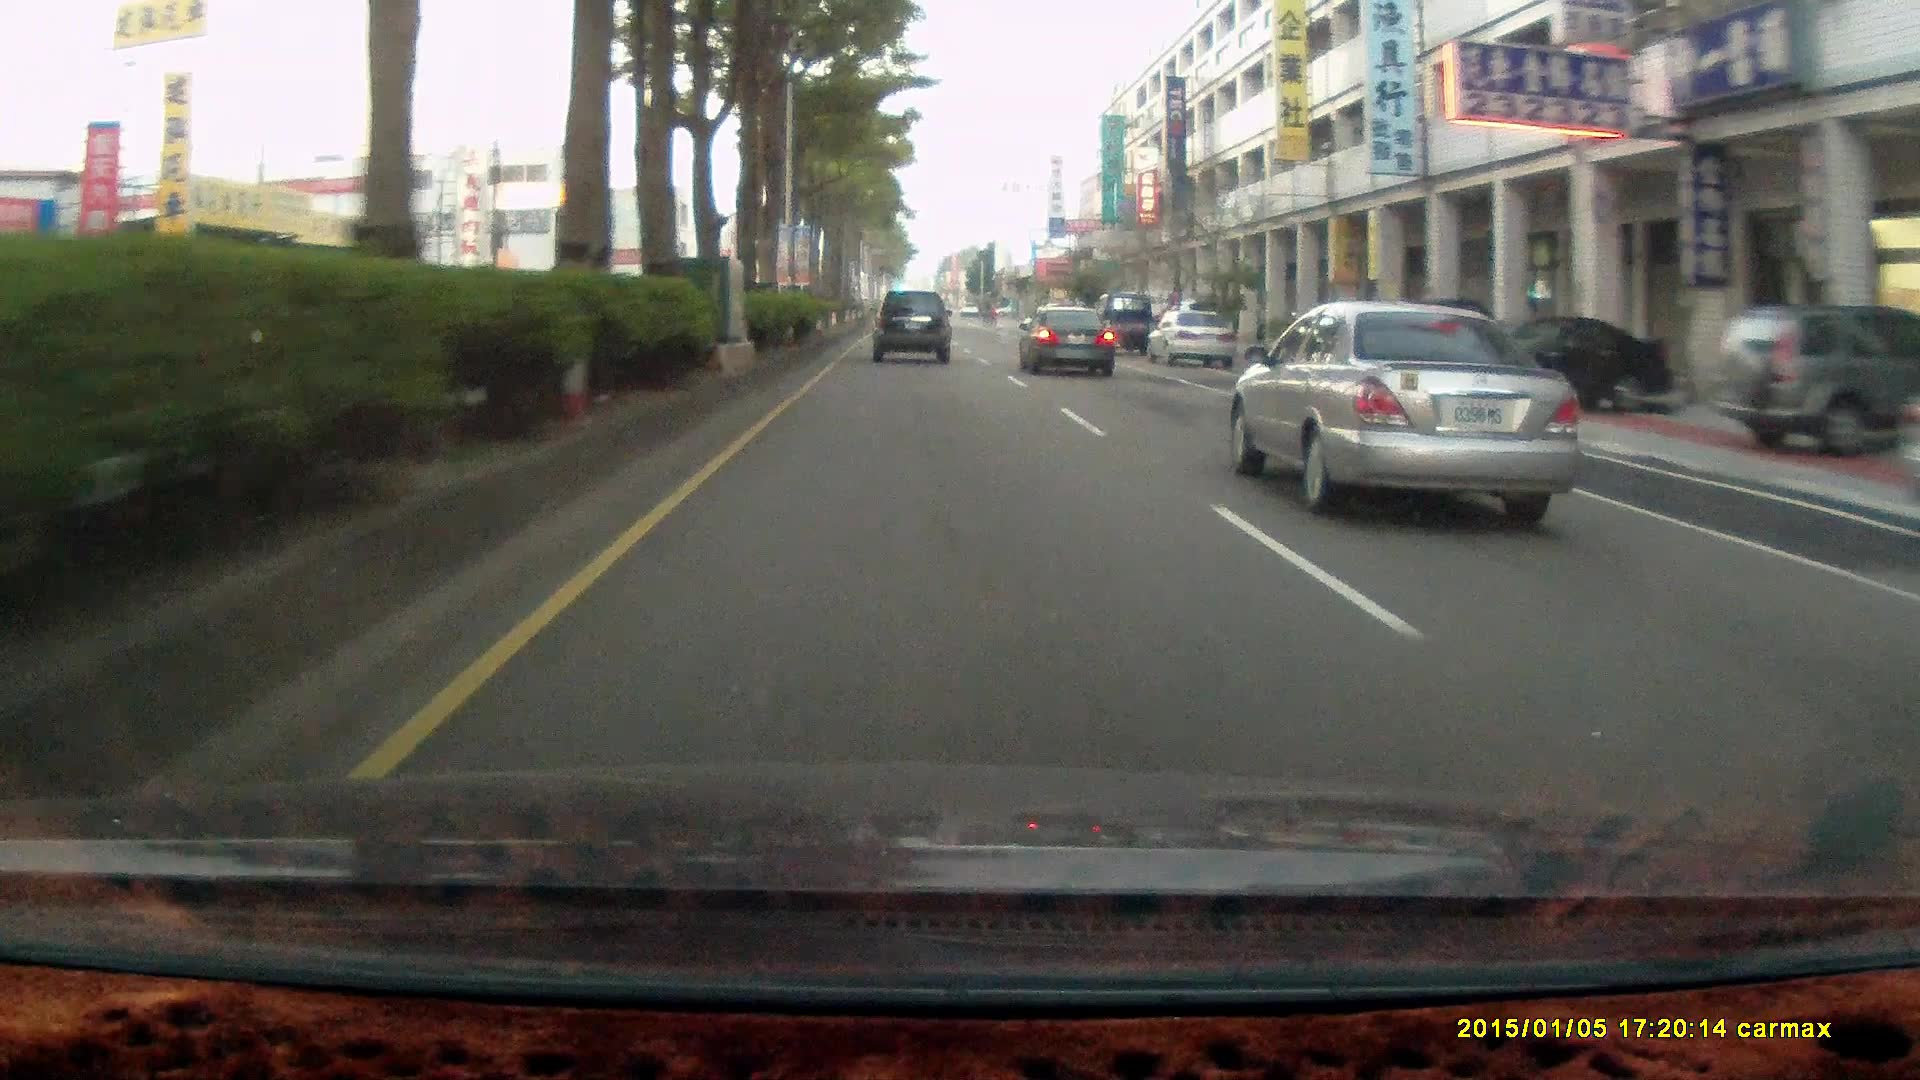vehicle: (1226, 295, 1590, 521), (1710, 301, 1920, 458), (1712, 301, 1920, 456), (1429, 313, 1687, 411), (1433, 313, 1677, 411), (1018, 305, 1120, 378), (1015, 303, 1114, 376), (872, 289, 955, 367), (869, 287, 952, 359), (1143, 309, 1236, 368), (1151, 314, 1242, 367), (1091, 287, 1154, 349)
